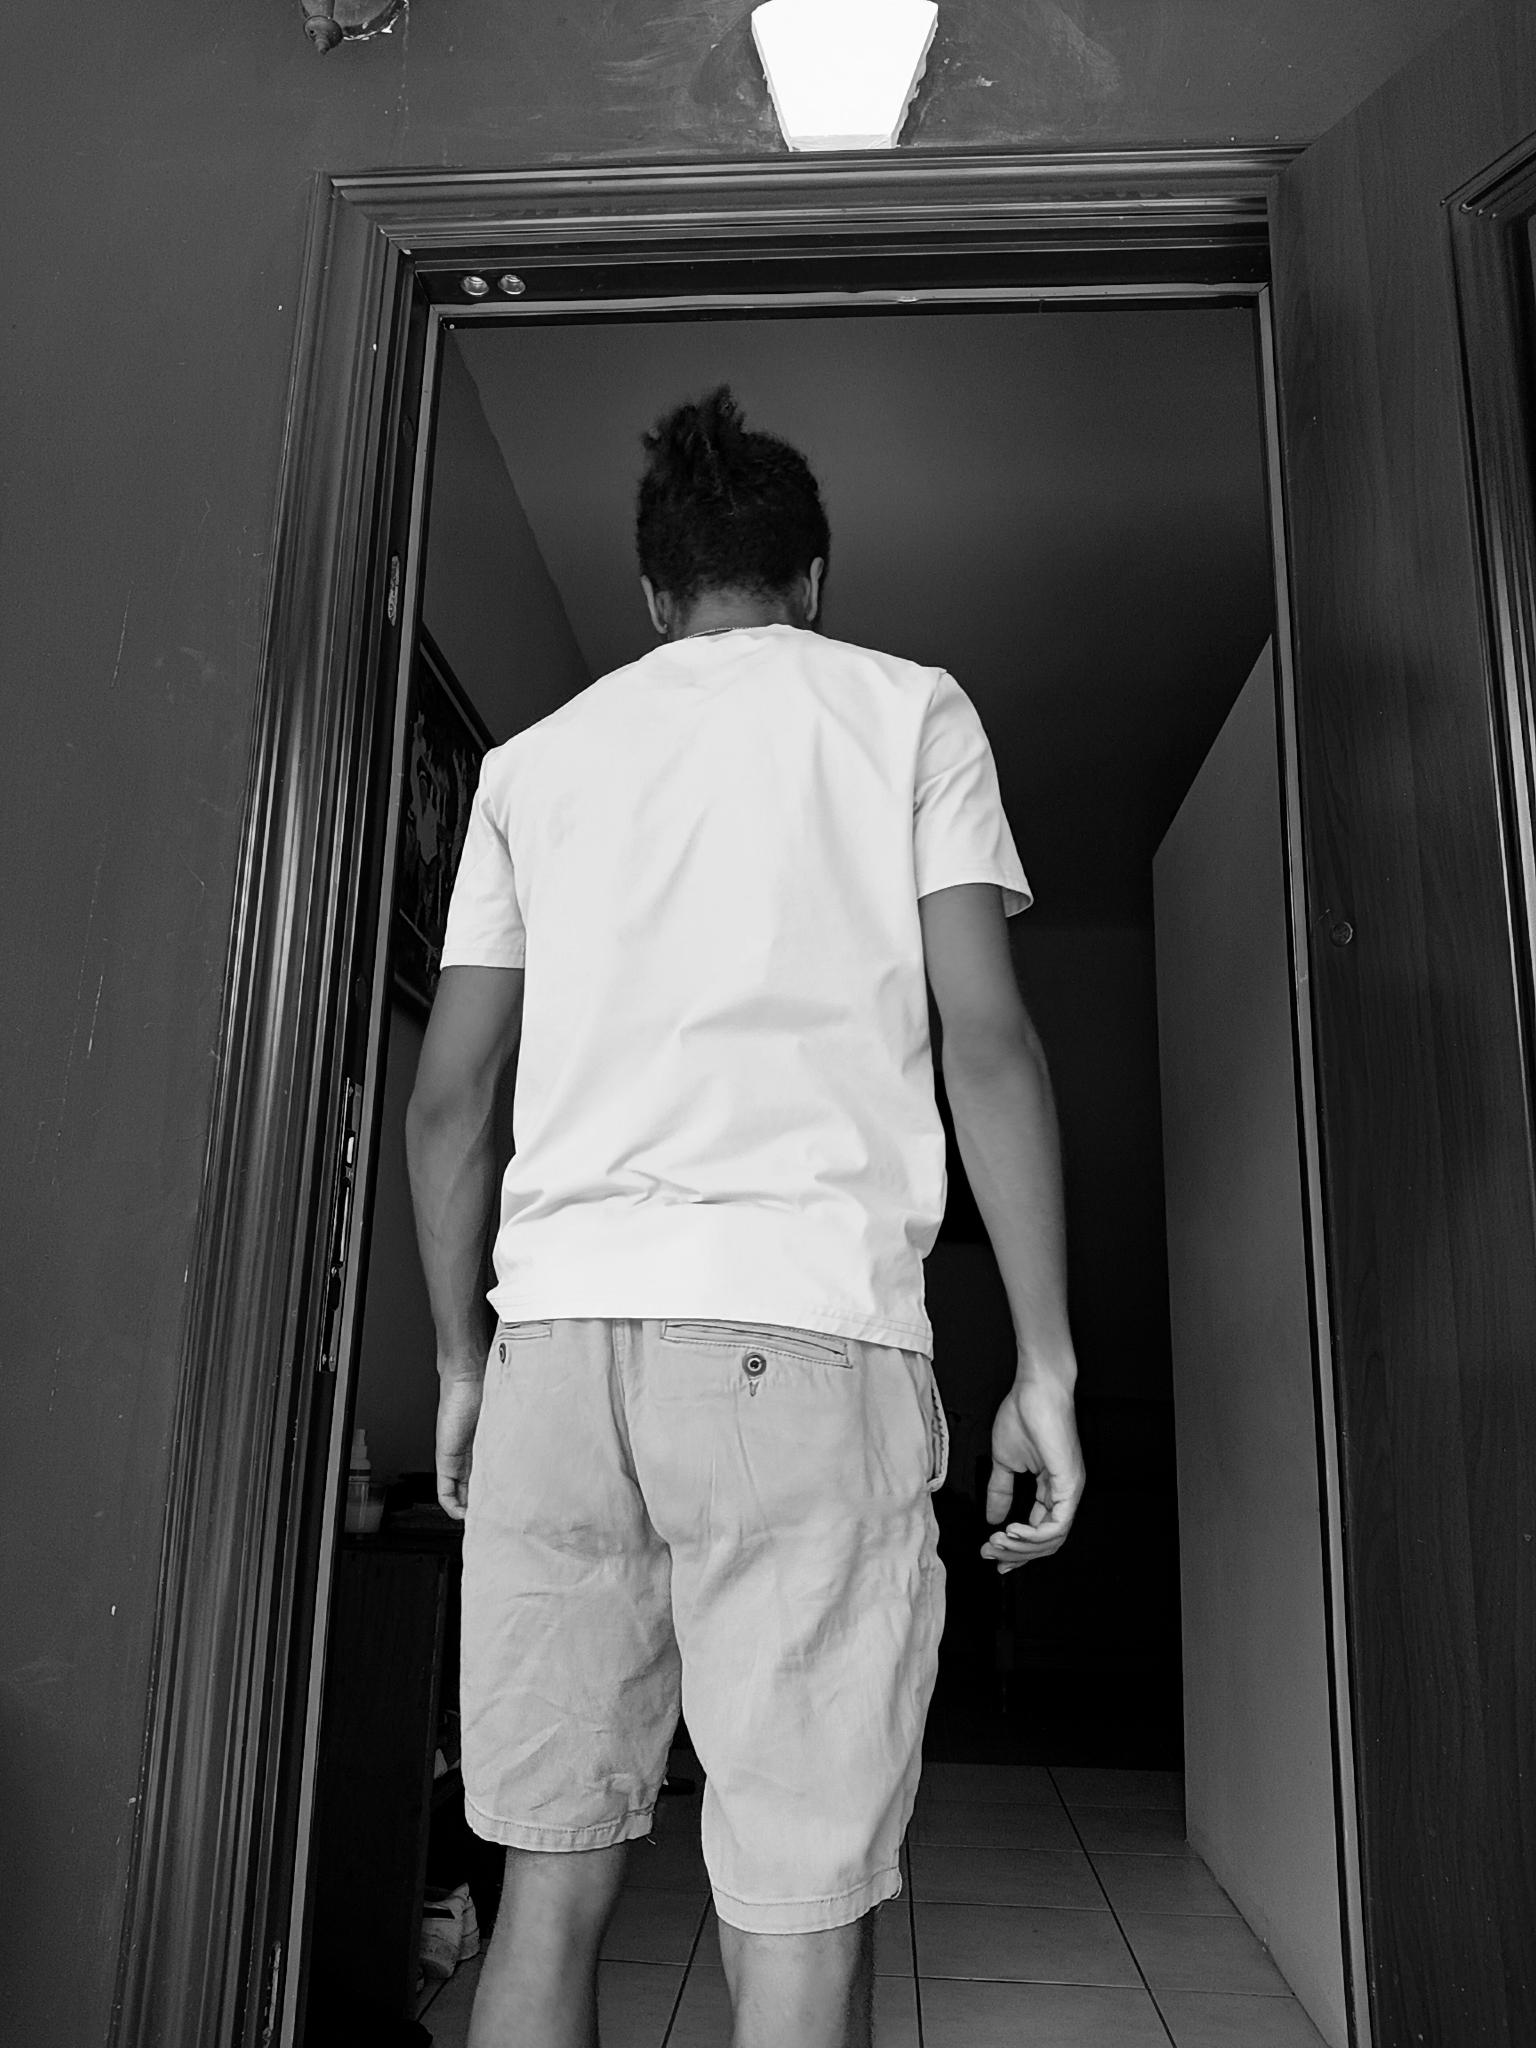back: (400, 381, 1089, 2038)
